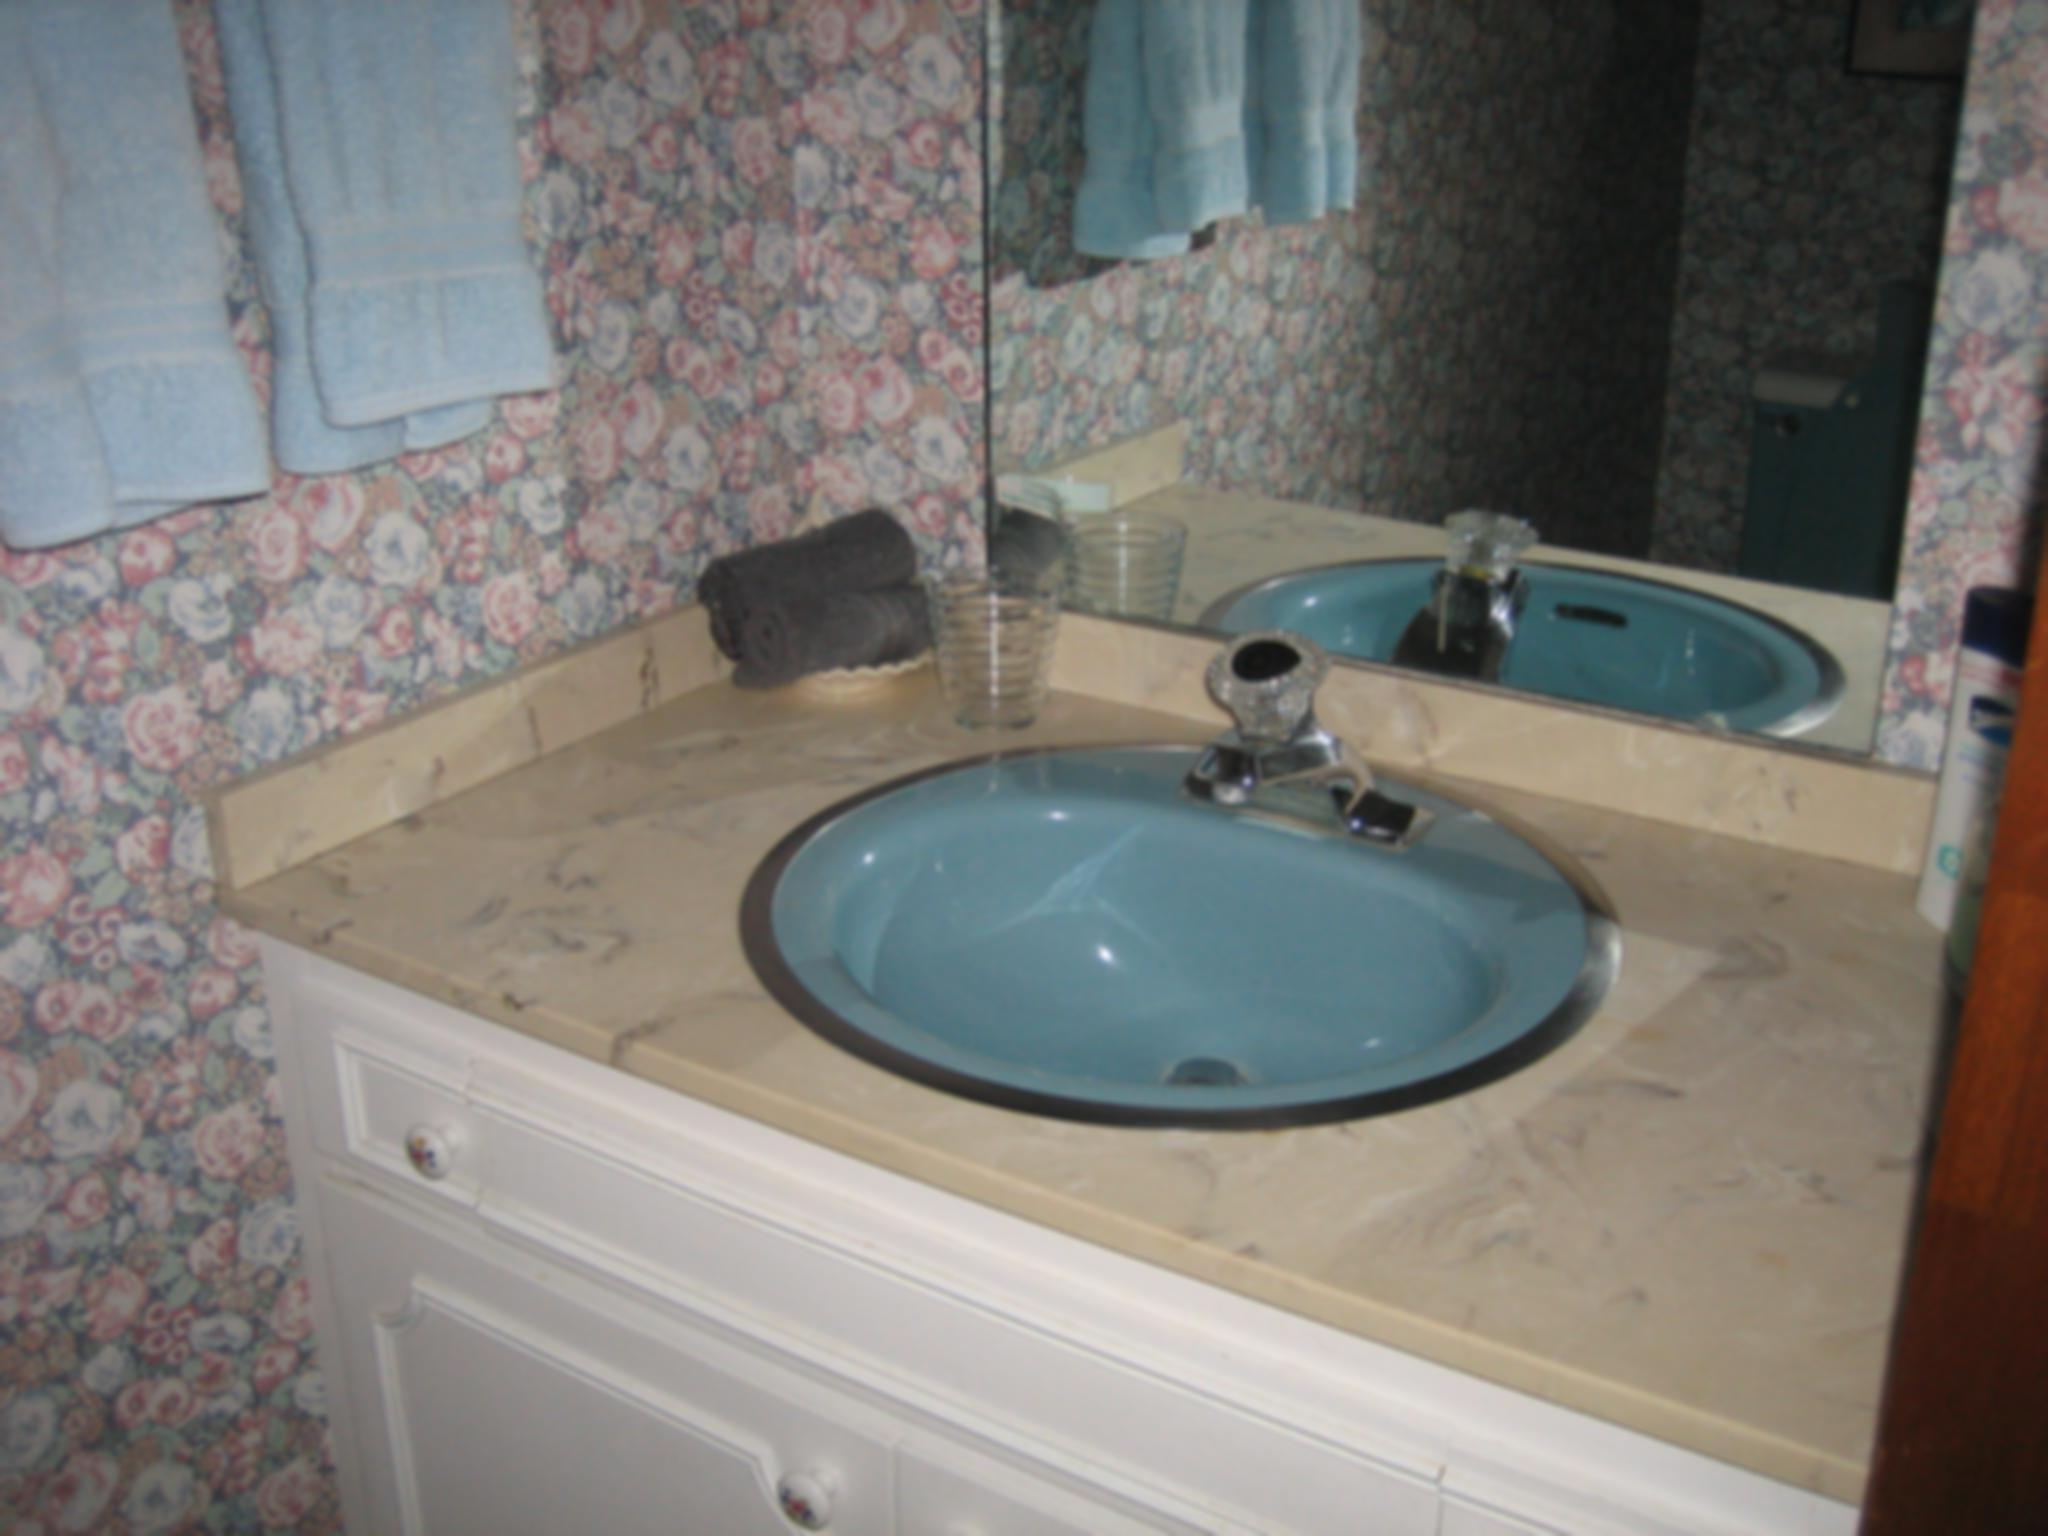Lavamanos: (663, 624, 1630, 1118)
